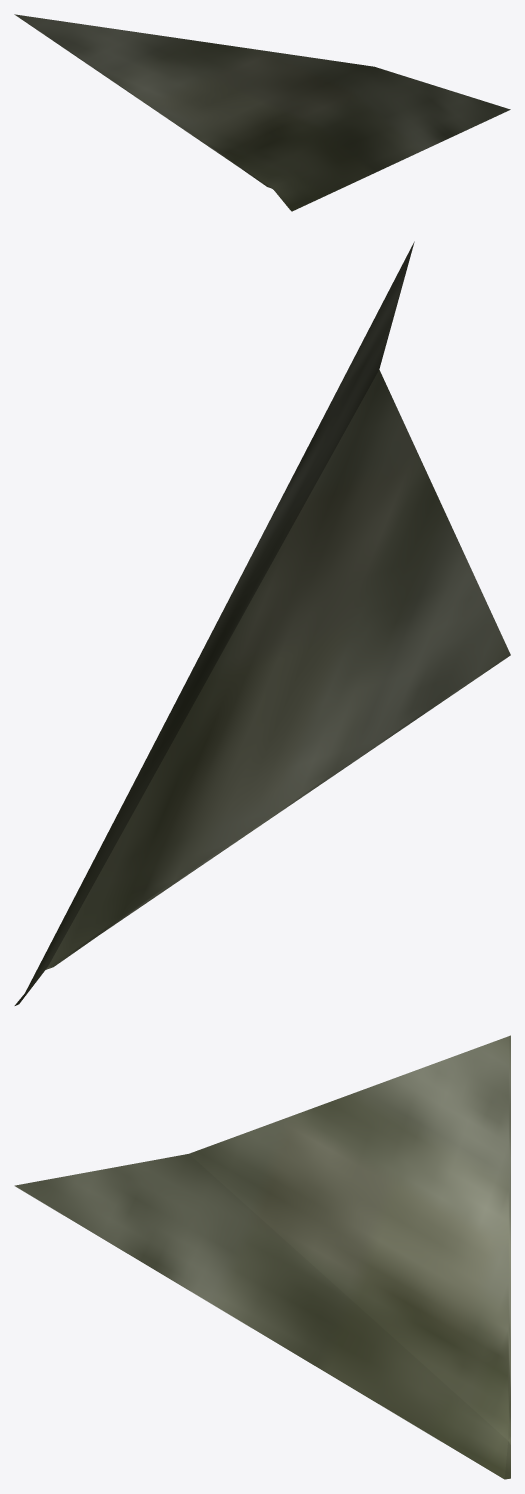
3 views of the same model, one above another, from view 1: azimuth 30°, elevation 25°; view 2: azimuth 150°, elevation 25°; view 3: azimuth 270°, elevation 25° (orthographic). The views are drawn at different scales.
Size of the model in its own units: 0.2576 by 0.2348 by 0.3599.
1 material, 1 textured.
